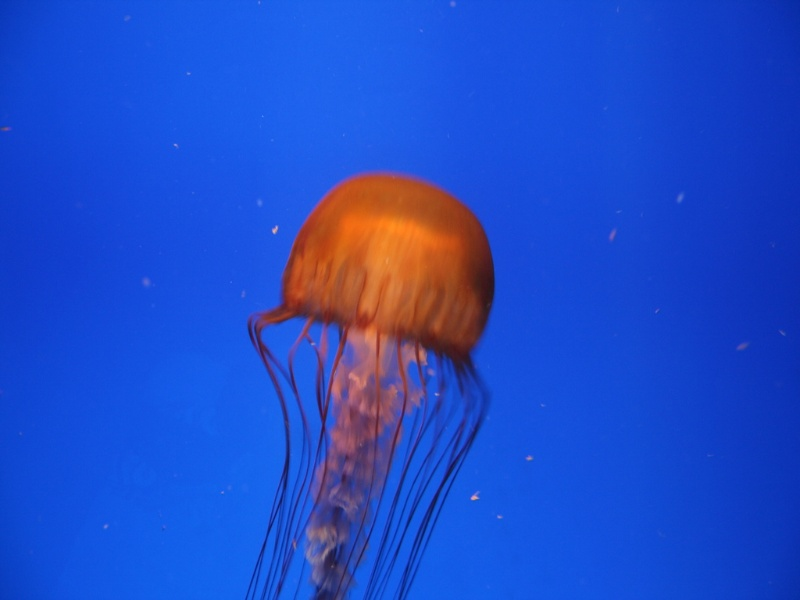Jellyfish: (245, 169, 495, 599)
